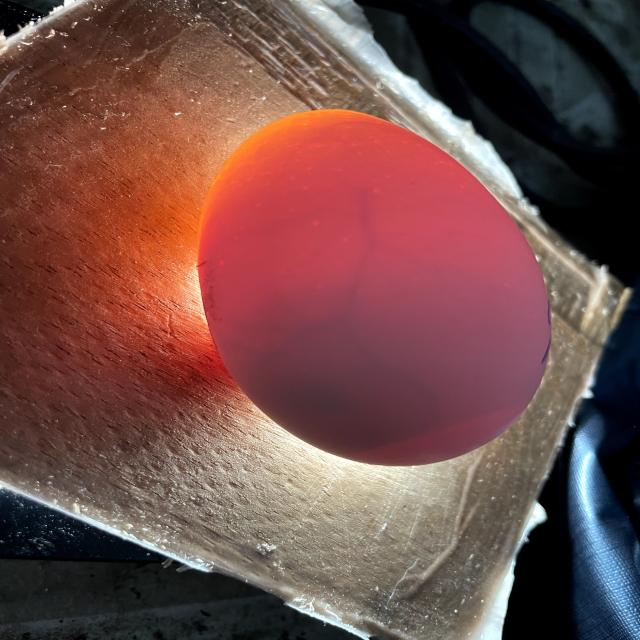fertile: (198, 110, 550, 465)
